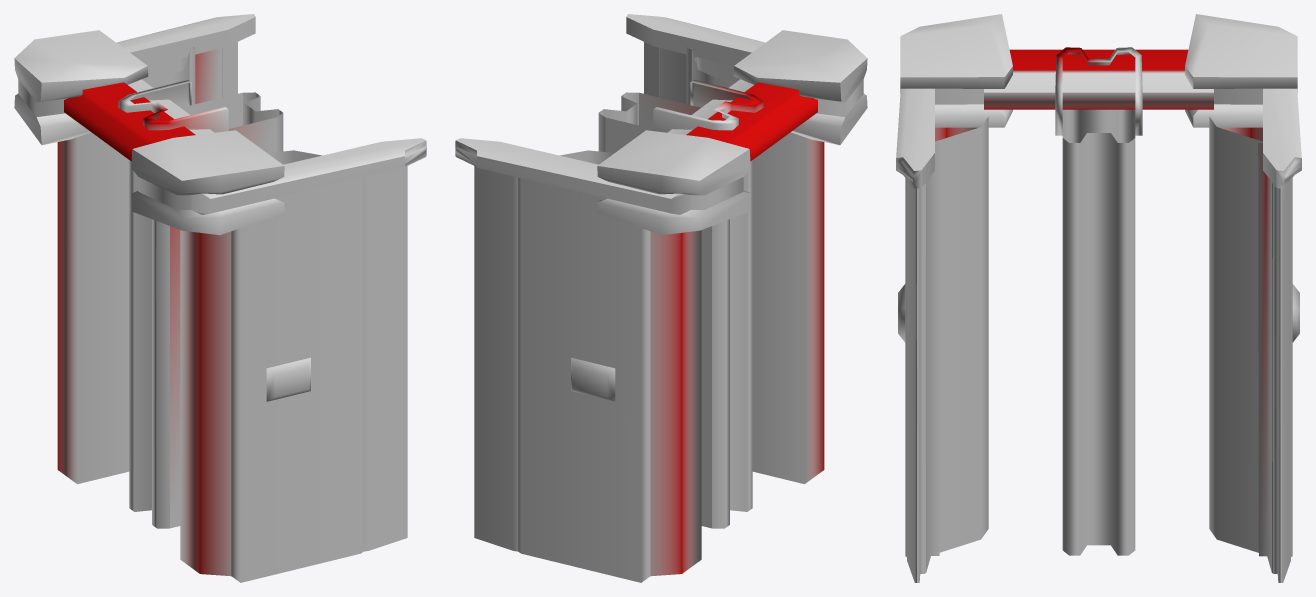
File: midliftmk2.fbx
3 views of the same model, side by side, from view 1: azimuth 30°, elevation 25°; view 2: azimuth 150°, elevation 25°; view 3: azimuth 270°, elevation 25° (orthographic). The views are drawn at different scales.
Visible parts, largest first — view 1: ConveyorLiftMid_Mk2_static_LOD0; view 2: ConveyorLiftMid_Mk2_static_LOD0; view 3: ConveyorLiftMid_Mk2_static_LOD0.
Part boxes in pixels (left/top/right/bottom): ConveyorLiftMid_Mk2_static_LOD0: left=14, top=14, right=426, bottom=582; ConveyorLiftMid_Mk2_static_LOD0: left=455, top=14, right=867, bottom=582; ConveyorLiftMid_Mk2_static_LOD0: left=896, top=14, right=1301, bottom=582.
Bounding box in the file's own units: 138 × 220 × 178.
